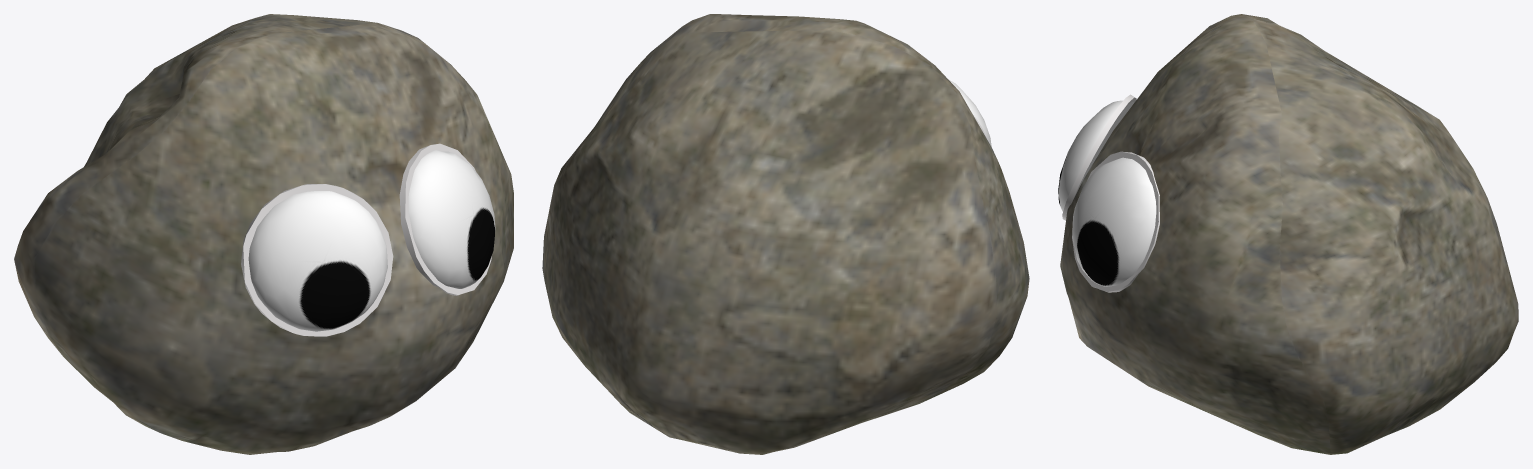
File: hw_pop_petrock.glb
The picture shows the model from 3 angles, left to right: view 1: azimuth 30°, elevation 25°; view 2: azimuth 150°, elevation 25°; view 3: azimuth 270°, elevation 25°; orthographic projection. The views are drawn at different scales.
Parts seen in each view (by area): view 1: Object_6, Object_11, Object_9; view 2: Object_6; view 3: Object_6, Object_11, Object_9.
Boxes of the visible parts, x1,y1,x2,y2 form: Object_6: (14,14,513,454); Object_11: (248,150,495,331); Object_9: (241,143,491,336); Object_6: (542,14,1029,454); Object_6: (1060,14,1518,454); Object_11: (1058,100,1156,286); Object_9: (1062,94,1159,292).
Size of the model in its own units: 0.2868 by 0.2244 by 0.2707.
3 materials, 2 textured.
